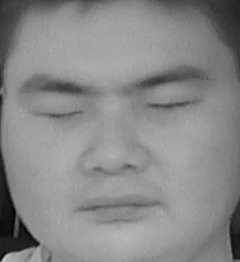blink: (149, 89, 199, 122), (34, 99, 83, 130)
mouth: (76, 185, 161, 230)
